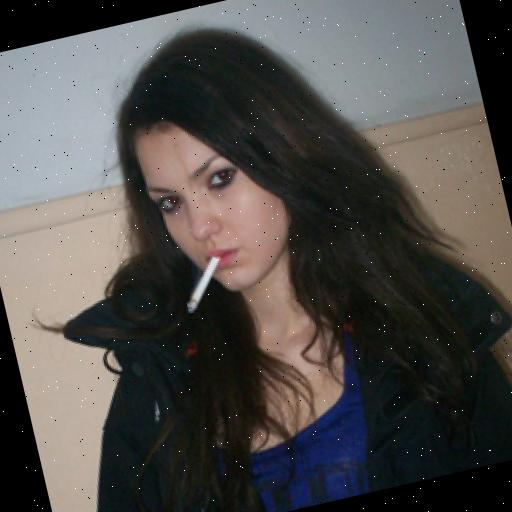terdeteksi merokok: (139, 138, 281, 331)
